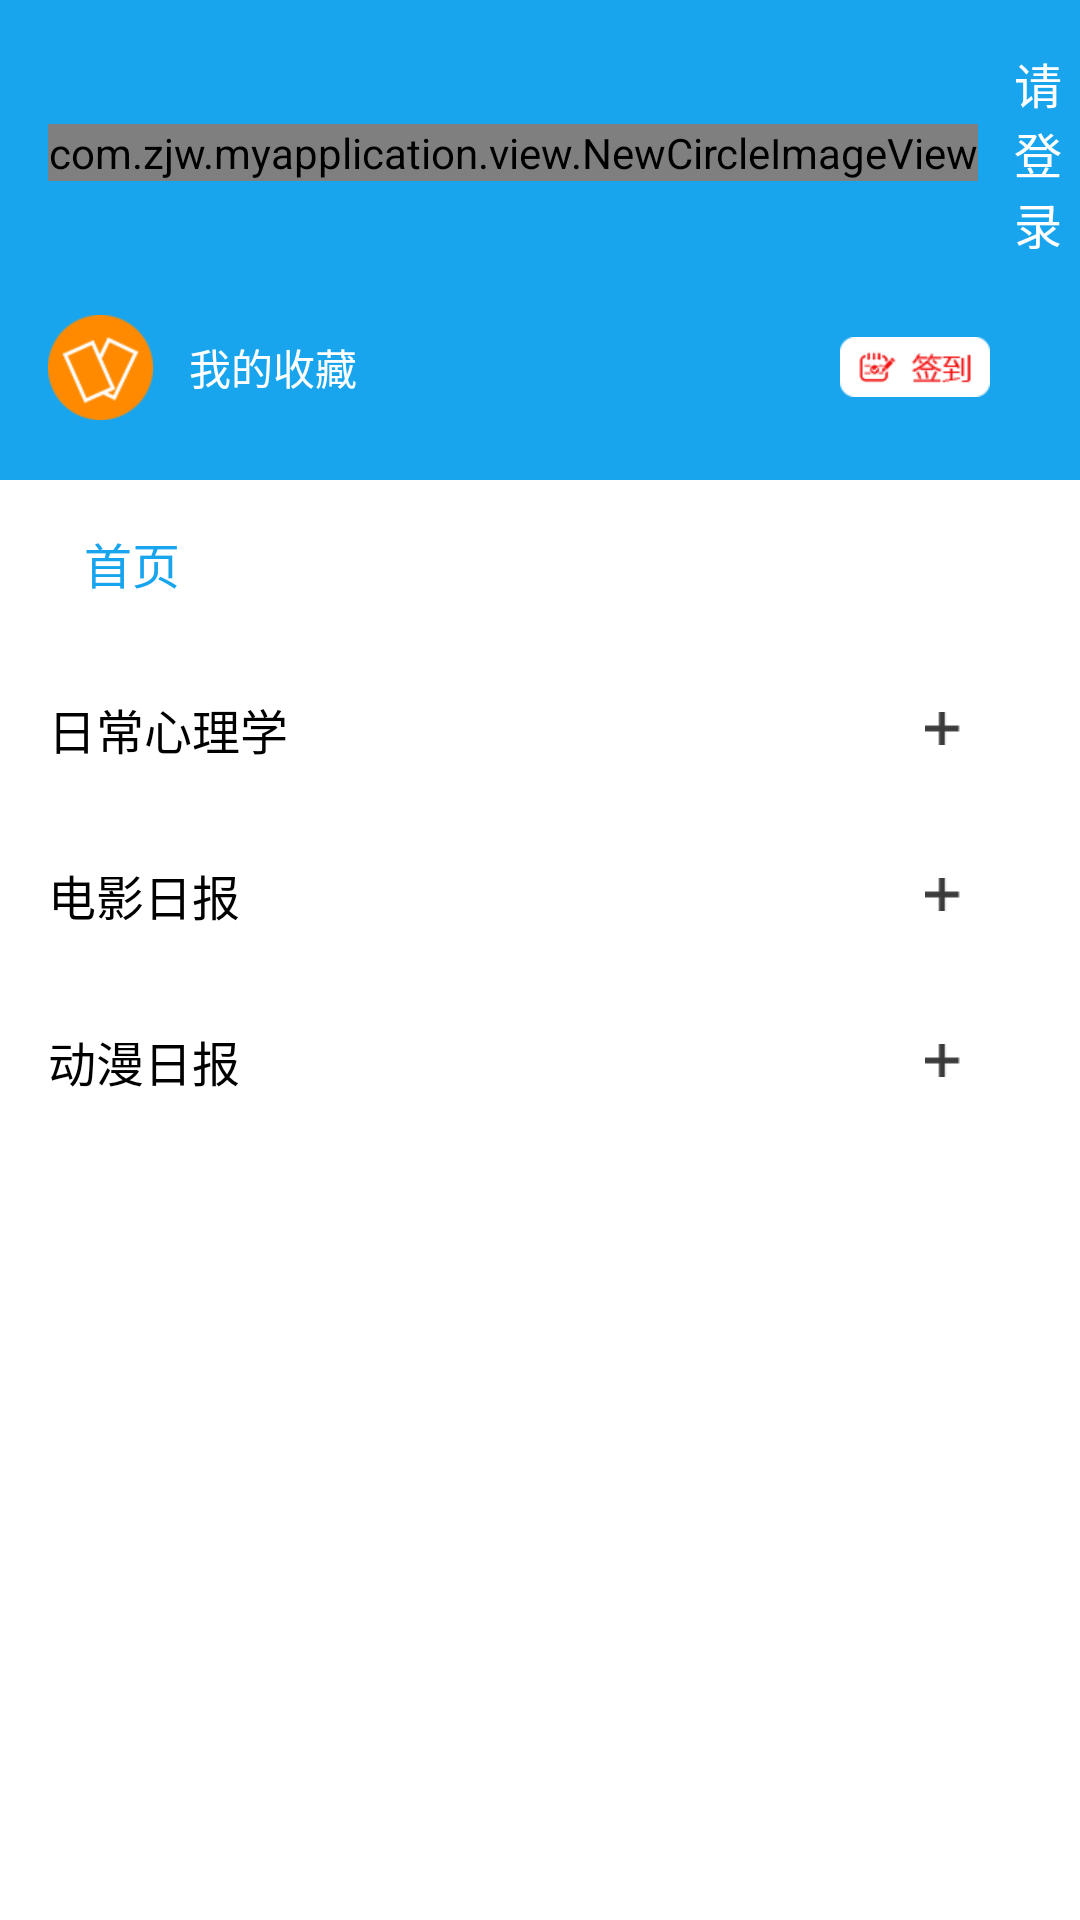

Locate icon controls on the screen. Image size 1080 x 1920, boxes as (x1, y1, x2, y2).
add: (925, 712, 960, 745), (925, 878, 960, 911), (925, 1044, 960, 1077)
collection: (48, 315, 153, 420)
